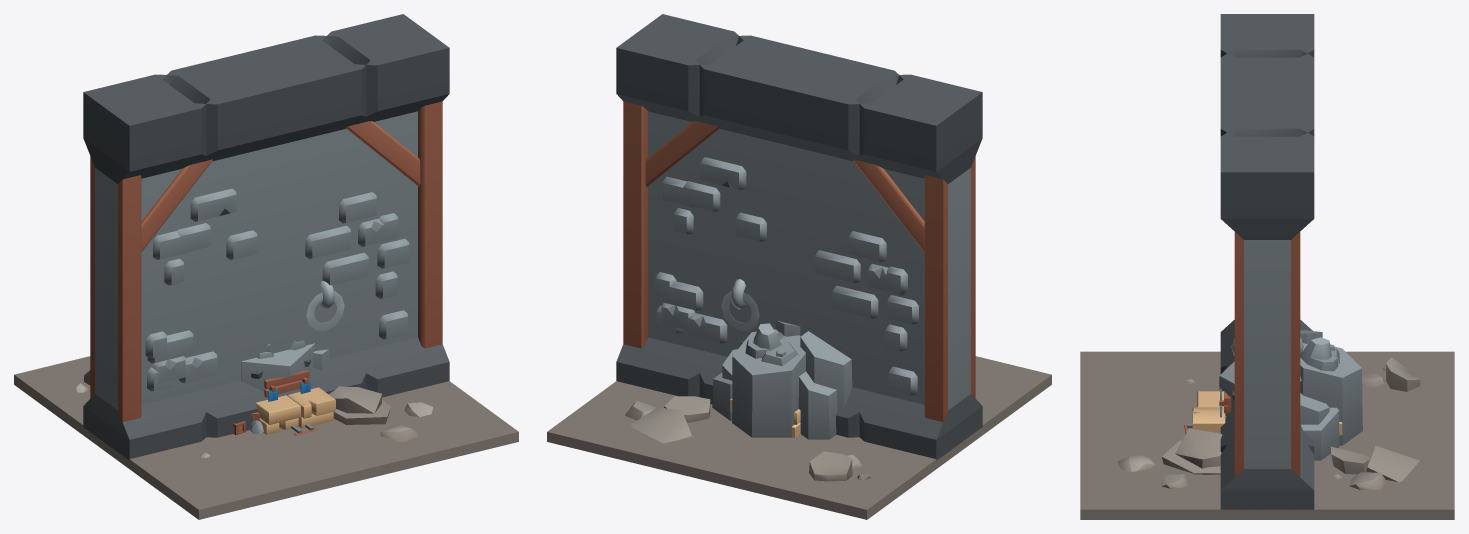
The model's file is holding-mine.glb.
The picture shows the model from 3 angles, left to right: view 1: azimuth 30°, elevation 25°; view 2: azimuth 150°, elevation 25°; view 3: azimuth 270°, elevation 25°; orthographic projection.
Parts seen in each view (by area): view 1: wall_scaffold, floor_dirt_large_rocky, wall_doorway_scaffold, building_mine_blue, Wood_Planks_Stack_Small, wall_open_scaffold, wall_doorway_scaffold_door; view 2: wall_scaffold, floor_dirt_large_rocky, wall_doorway_scaffold, building_mine_blue, wall_open_scaffold, wall_doorway_scaffold_door; view 3: floor_dirt_large_rocky, wall_scaffold, building_mine_blue, wall_doorway_scaffold, Wood_Planks_Stack_Small, wall_open_scaffold.
Boxes of the visible parts, <box> form: wall_scaffold: <box>83,14,449,460</box>; floor_dirt_large_rocky: <box>14,356,518,519</box>; wall_doorway_scaffold: <box>95,112,420,438</box>; building_mine_blue: <box>233,340,329,435</box>; Wood_Planks_Stack_Small: <box>255,387,335,434</box>; wall_open_scaffold: <box>84,139,449,458</box>; wall_doorway_scaffold_door: <box>306,281,344,330</box>; wall_scaffold: <box>616,14,982,460</box>; floor_dirt_large_rocky: <box>547,356,1051,519</box>; wall_doorway_scaffold: <box>619,111,970,433</box>; building_mine_blue: <box>712,320,852,439</box>; wall_open_scaffold: <box>616,95,956,458</box>; wall_doorway_scaffold_door: <box>721,279,759,330</box>; floor_dirt_large_rocky: <box>1080,351,1454,519</box>; wall_scaffold: <box>1220,14,1314,510</box>; building_mine_blue: <box>1184,330,1362,460</box>; wall_doorway_scaffold: <box>1220,240,1314,488</box>; Wood_Planks_Stack_Small: <box>1192,391,1342,435</box>; wall_open_scaffold: <box>1220,222,1313,489</box>.
Bounding box in the file's own units: 4 × 4.93 × 4.
5 materials, 4 textured.
